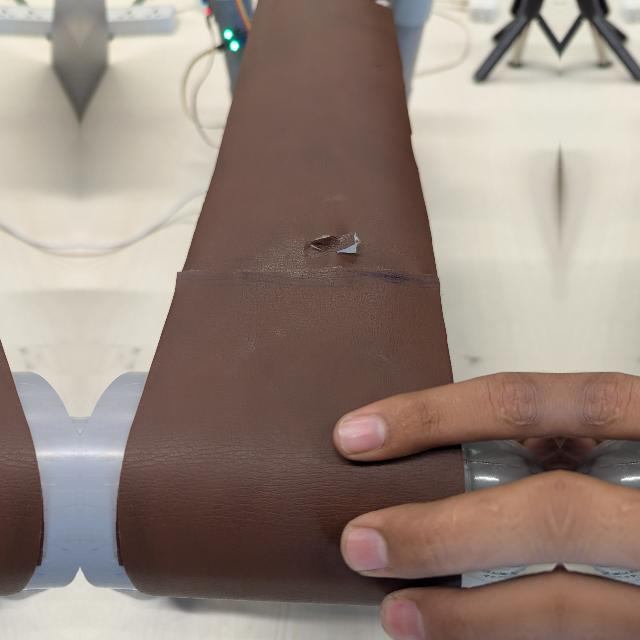joint_damage: (298, 215, 393, 277)
